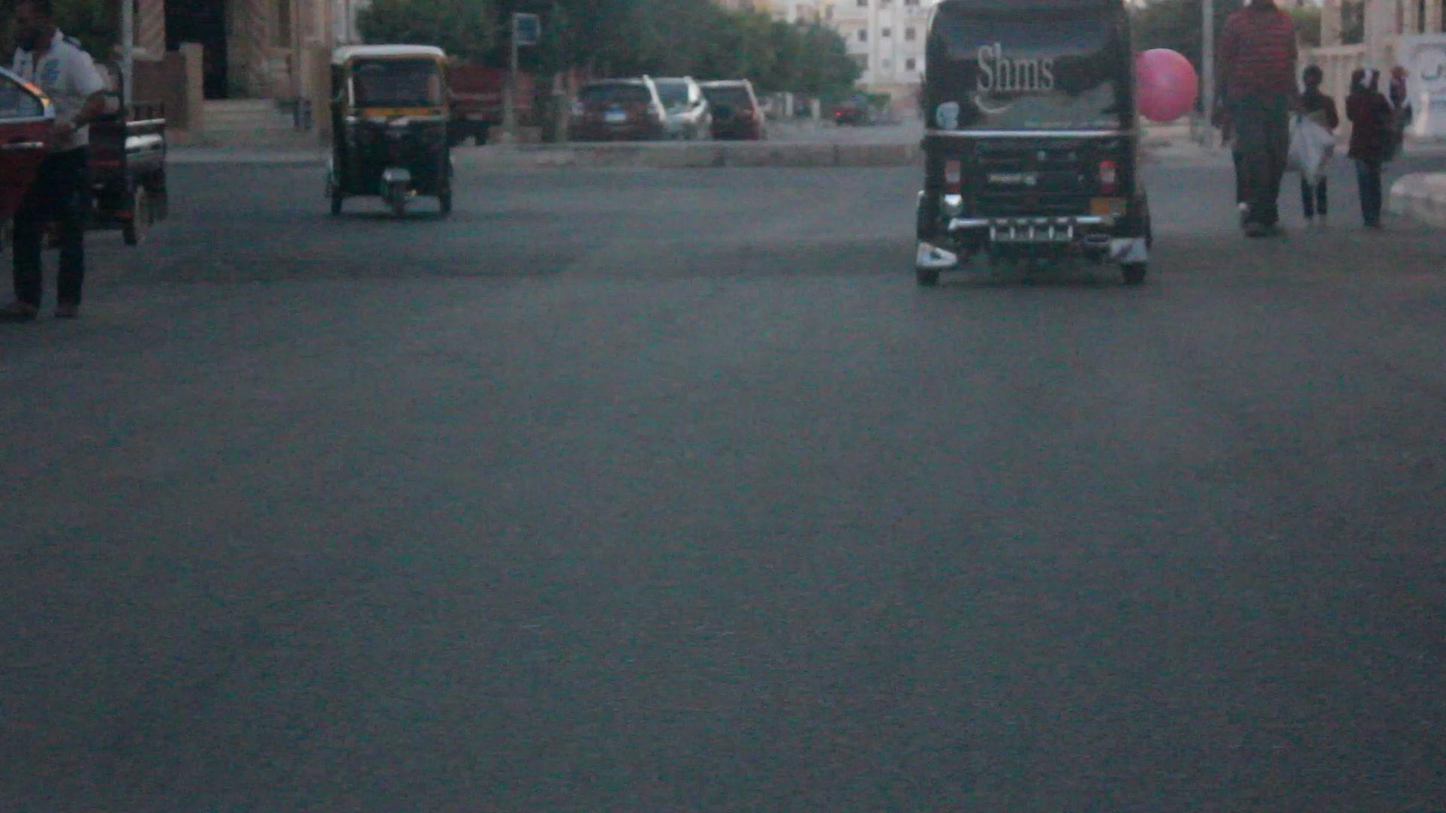Bump: (175, 205, 902, 286), (1150, 218, 1446, 275)
